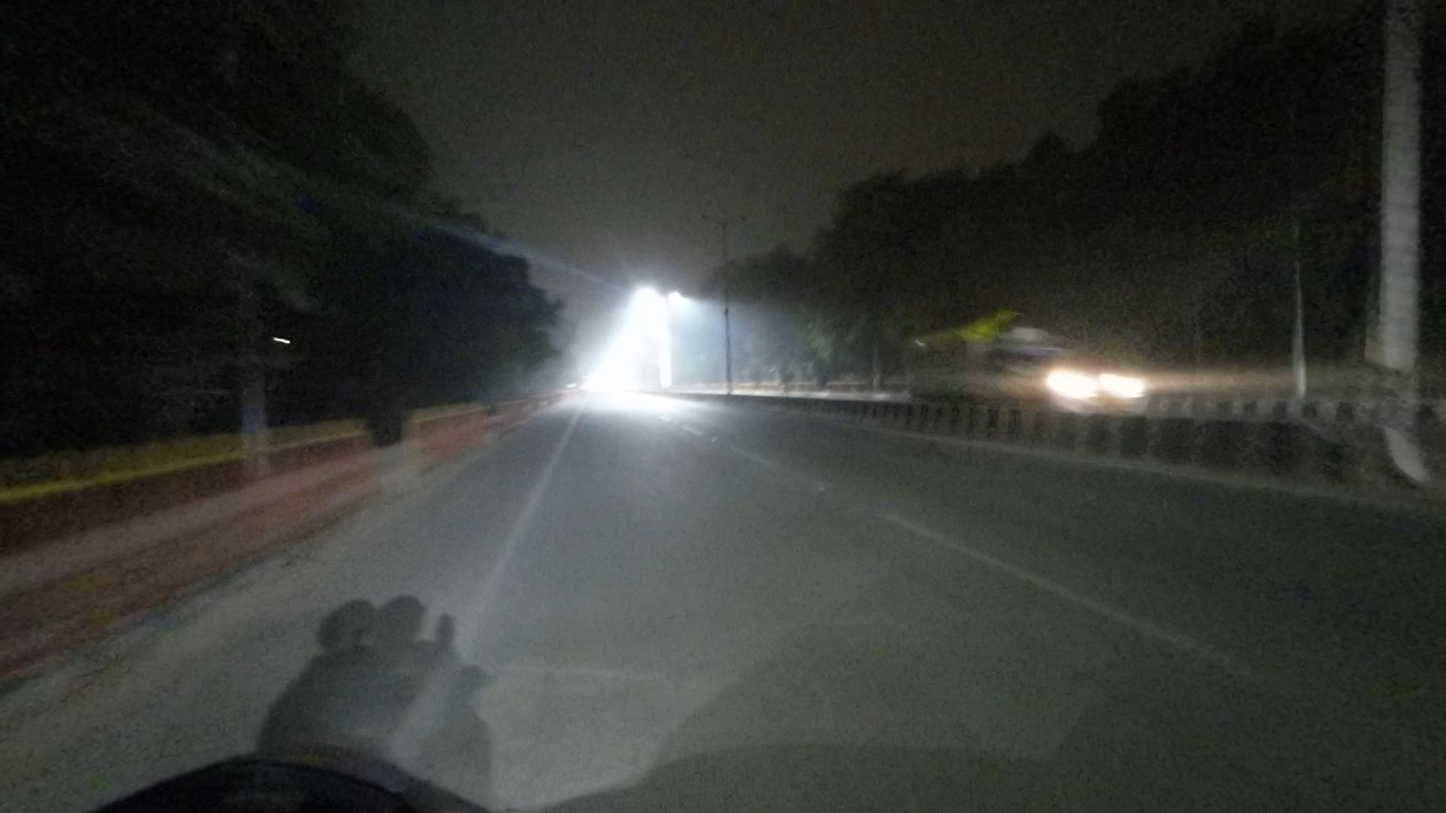streetlight: (698, 213, 721, 225), (726, 215, 748, 223)
